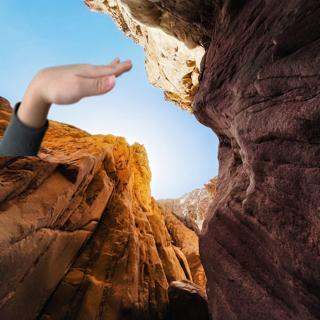Wait: (16, 54, 139, 111)
